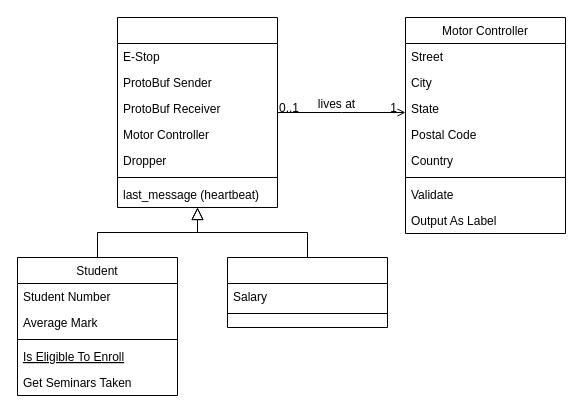
Image size: 583x416. Some labels were removed from this diagram. The box of each missing label's shape, as (x1, y1, x2, y2) in pixels:
Professor: (226, 256, 388, 328)
Sub Presto Board: (116, 16, 278, 208)
